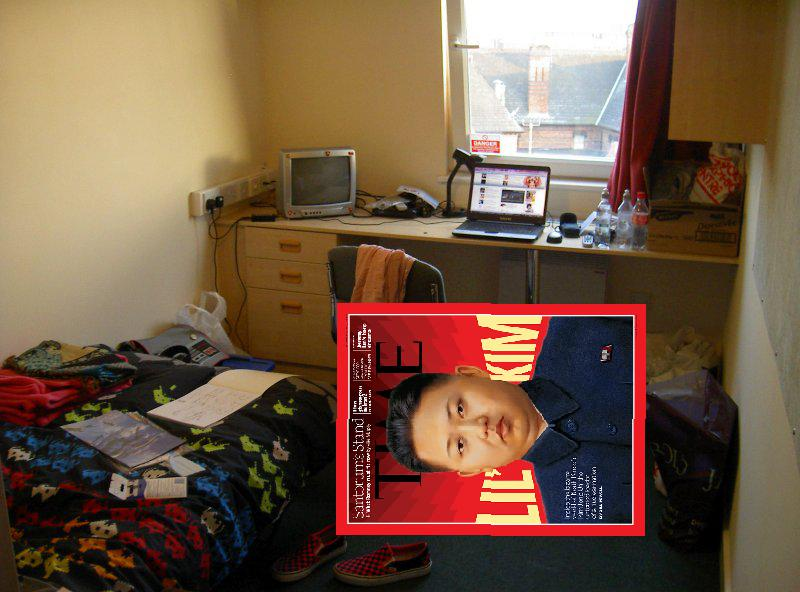times: (334, 301, 646, 540)
